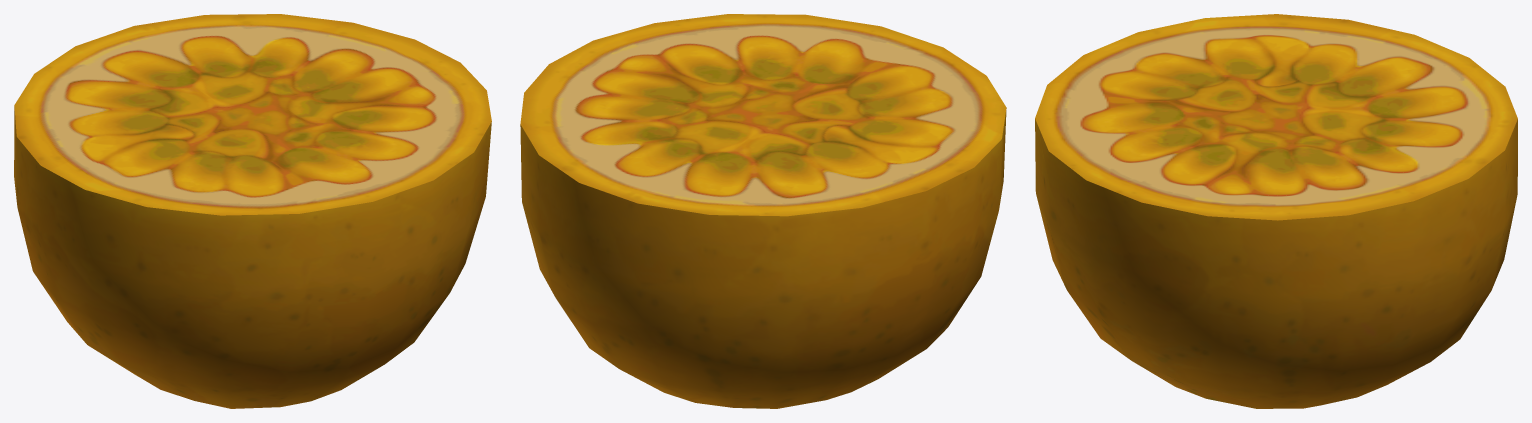
The model's file is SM_PassionFruitYellowCutBottom.fbx.
The picture shows the model from 3 angles, left to right: view 1: azimuth 30°, elevation 25°; view 2: azimuth 150°, elevation 25°; view 3: azimuth 270°, elevation 25°; orthographic projection.
Visible parts, largest first — view 1: SM_PassionFruitYellowCutBottom; view 2: SM_PassionFruitYellowCutBottom; view 3: SM_PassionFruitYellowCutBottom.
Boxes of the visible parts, left/top/right/bottom form: SM_PassionFruitYellowCutBottom: left=14, top=14, right=491, bottom=408; SM_PassionFruitYellowCutBottom: left=520, top=14, right=1006, bottom=408; SM_PassionFruitYellowCutBottom: left=1035, top=14, right=1517, bottom=408.
Size of the model in its own units: 11.69 by 7.17 by 11.56.
